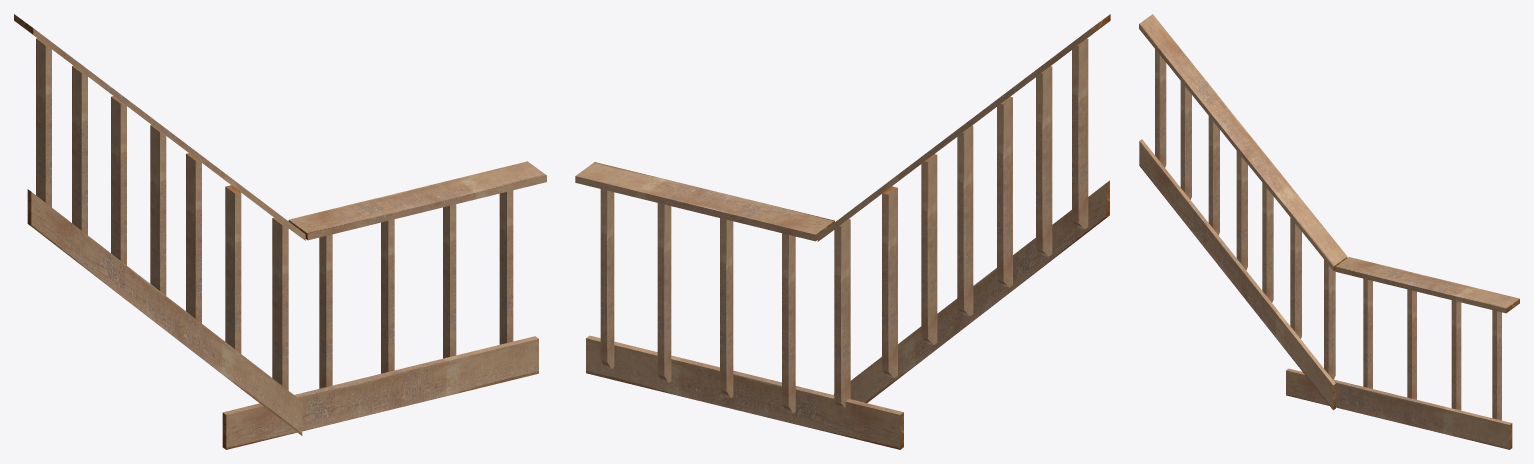
The model's file is stairs_railing.fbx.
3 renders of one model, left to right at view 1: azimuth 30°, elevation 25°; view 2: azimuth 150°, elevation 25°; view 3: azimuth 330°, elevation 25°, orthographic. The views are drawn at different scales.
Visible parts, largest first — view 1: runner12, runner25, railing (×2), b1 (×2), b4 (×2), b2 (×2), b25, b24, b12, b13, b; view 2: runner12, railing (×2), runner25, b4 (×2), b1 (×2), b2 (×2), b12, b13, b25, b24, b; view 3: railing (×2), runner25, runner12, b1 (×2), b4 (×2), b2 (×2), b25, b24, b12, b13, b.
Boxes of the visible parts, box(x1,y1,x2,y2) form: runner12: box(222, 336, 538, 449); runner25: box(27, 189, 302, 435); railing (×2): box(14, 14, 546, 240); b1 (×2): box(150, 124, 456, 358); b4 (×2): box(186, 153, 513, 344); b2 (×2): box(111, 96, 394, 373); b25: box(272, 217, 288, 390); b24: box(225, 185, 241, 353); b12: box(72, 65, 87, 234); b13: box(36, 38, 51, 207); b: box(319, 234, 332, 388); runner12: box(586, 335, 903, 449); railing (×2): box(575, 14, 1110, 241); runner25: box(834, 180, 1109, 402); b4 (×2): box(600, 154, 937, 368); b1 (×2): box(657, 125, 973, 382); b2 (×2): box(720, 96, 1012, 397); b12: box(1036, 66, 1052, 256); b13: box(1072, 38, 1088, 229); b25: box(834, 219, 850, 407); b24: box(882, 186, 897, 377); b: box(782, 233, 795, 413); railing (×2): box(1139, 14, 1519, 313); runner25: box(1139, 139, 1335, 410); runner12: box(1286, 368, 1512, 449); b1 (×2): box(1236, 151, 1461, 410); b4 (×2): box(1262, 183, 1501, 420); b2 (×2): box(1208, 116, 1416, 399); b25: box(1324, 259, 1335, 379); b24: box(1290, 218, 1301, 338); b12: box(1180, 81, 1191, 199); b13: box(1155, 49, 1166, 167); b: box(1363, 278, 1372, 388).
Size of the model in its own units: 7.82 by 6.9 by 0.5088.
Materials: 3 (3 with a texture image).
